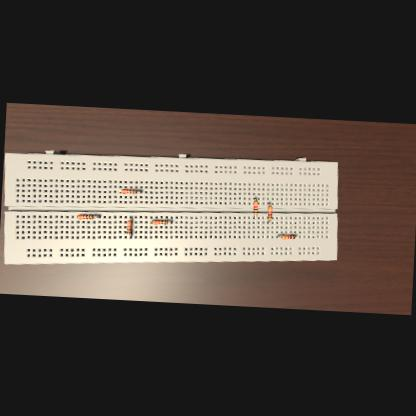breadboard: (0, 141, 341, 280)
resistor: (121, 188, 136, 194), (76, 214, 93, 219), (280, 233, 294, 239), (125, 220, 131, 234), (251, 201, 257, 214), (266, 206, 272, 218), (152, 219, 166, 224)
wire: (127, 234, 130, 238), (166, 220, 170, 222), (128, 216, 130, 220), (92, 216, 99, 217), (266, 219, 269, 221), (252, 214, 254, 217), (266, 203, 269, 205), (252, 198, 255, 200), (135, 191, 141, 192), (275, 235, 280, 236), (149, 220, 151, 222), (294, 236, 296, 237), (118, 190, 120, 191)
